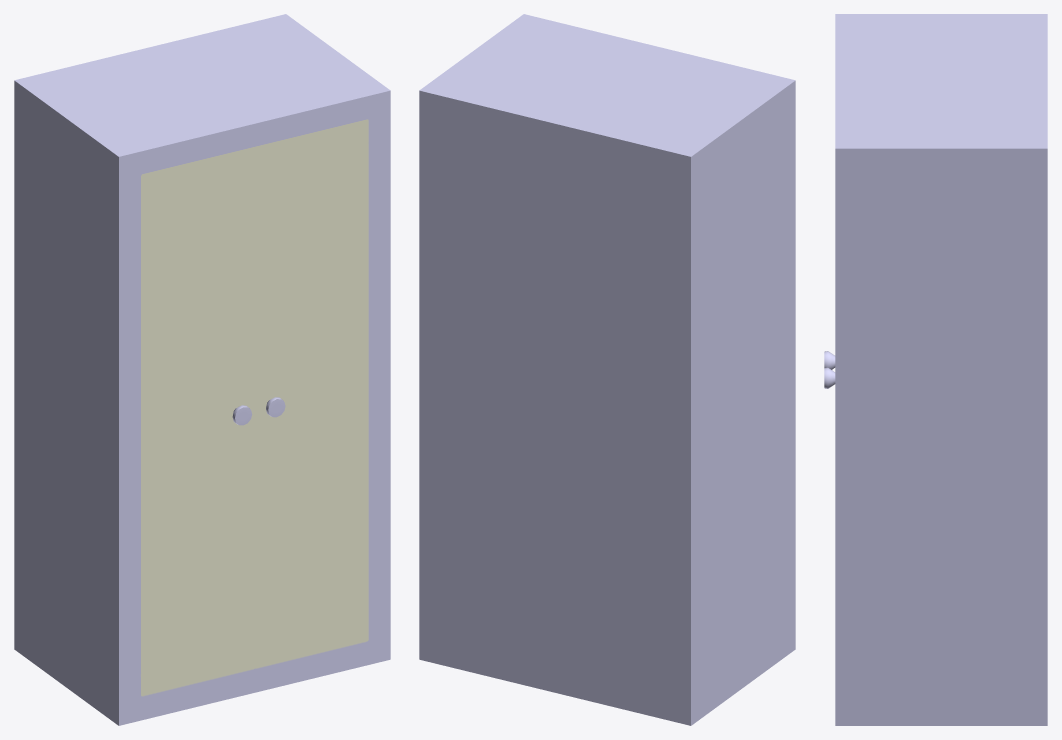
File: closet1_purple.glb
3 renders of one model, left to right at view 1: azimuth 30°, elevation 25°; view 2: azimuth 150°, elevation 25°; view 3: azimuth 270°, elevation 25°, orthographic.
Visible parts, largest first — view 1: Box002; view 2: Box002; view 3: Box002.
Part boxes in pixels (box(x1,y1,x2,y2)): Box002: box(14, 14, 390, 725); Box002: box(419, 14, 795, 725); Box002: box(824, 14, 1047, 725).
Bounding box in the file's own units: 0.12 × 0.24 × 0.0842.
Materials: 1 (1 with a texture image).
